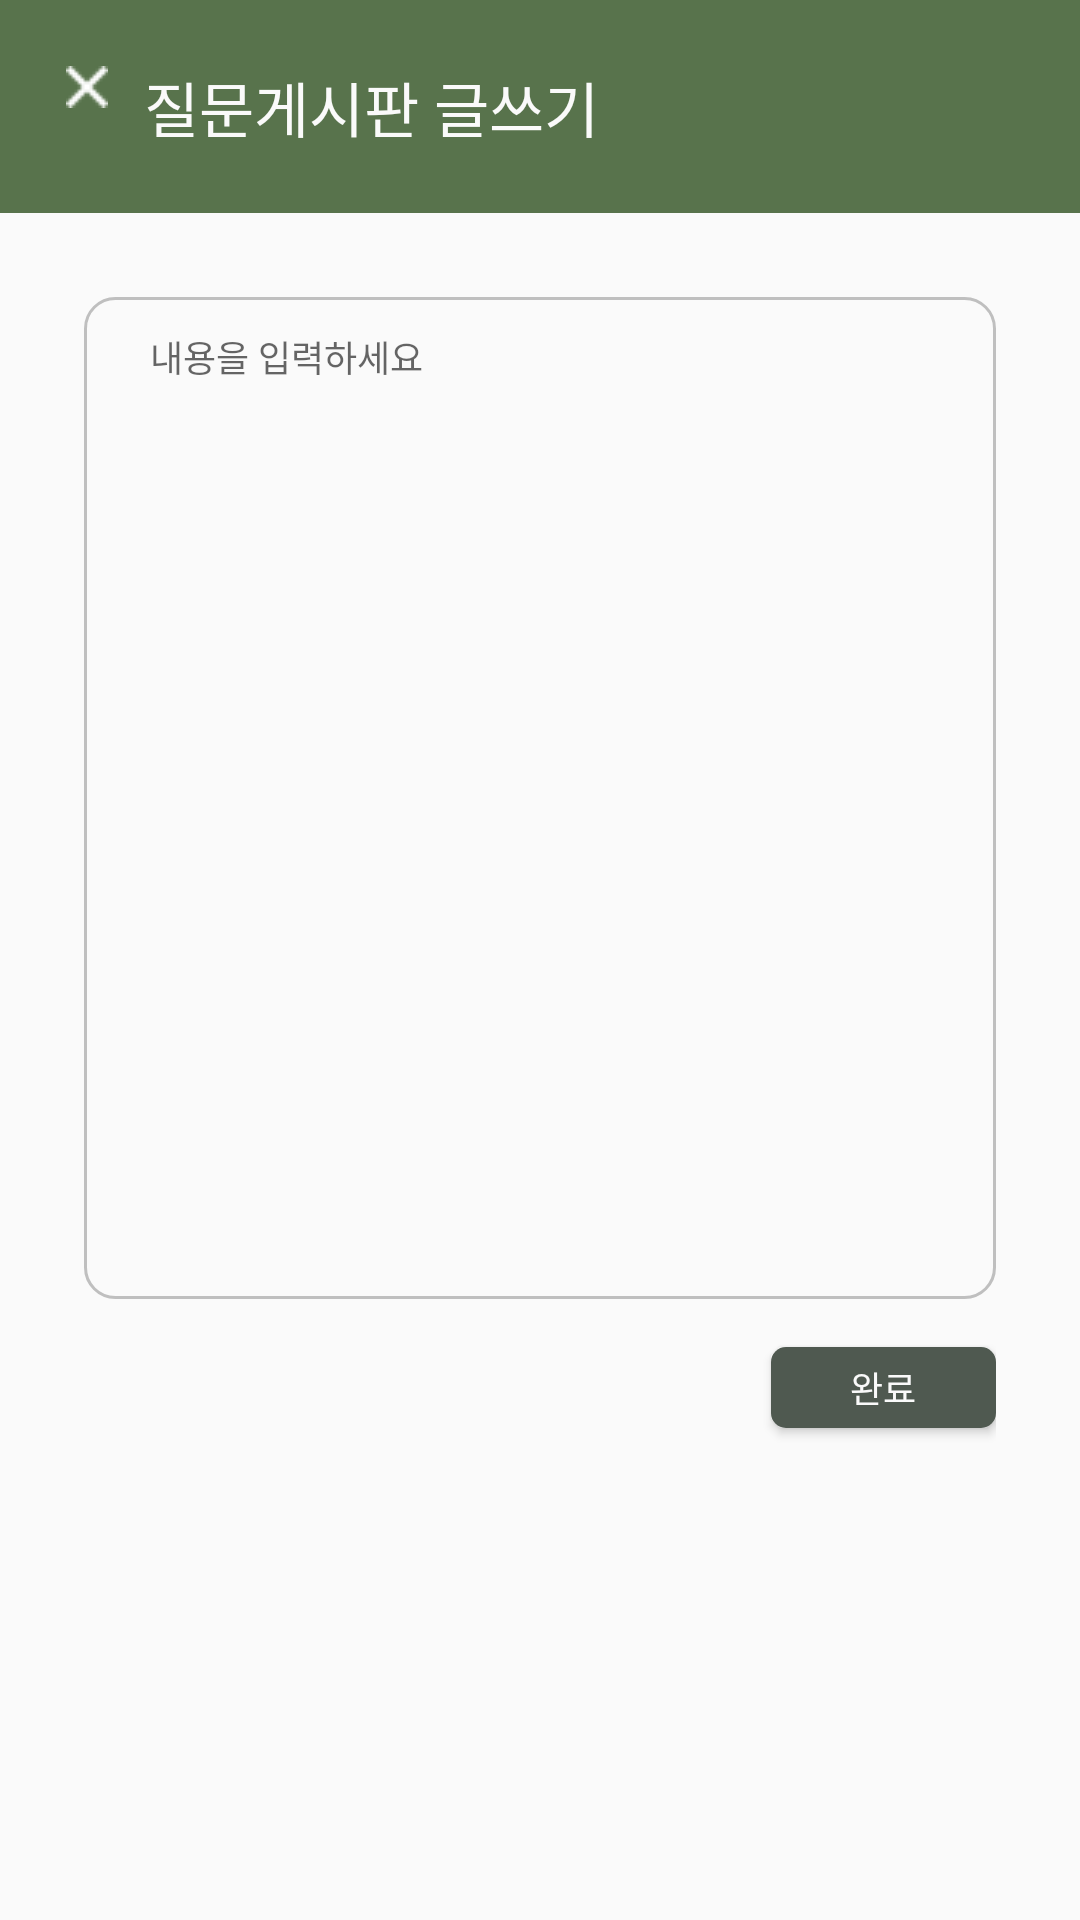

Named icons in this screenshot (1080px x 1920px) and their bounding boxes, detection(x1, y1, x2, y2):
exit: detection(66, 66, 108, 108)
